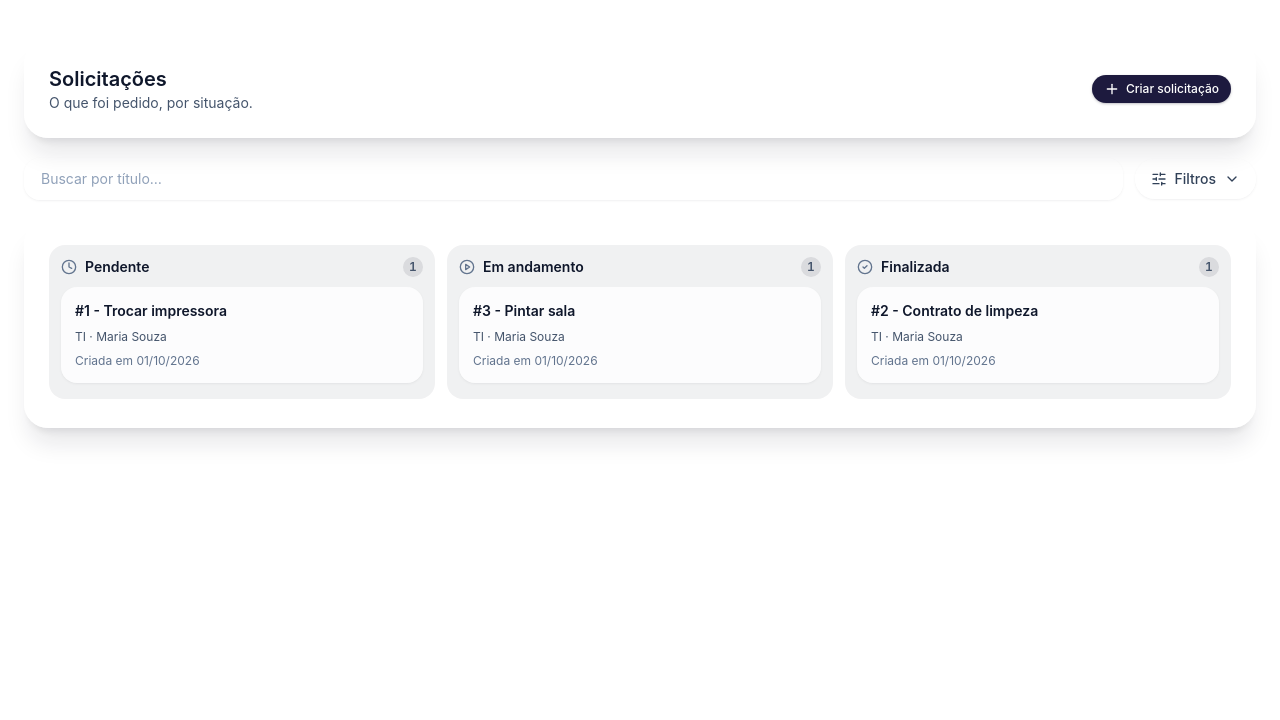
DemandsView › filtros › o botão diz quantos filtros do painel estão em vigor
Click the button "Filtros": {"x": 1195, "y": 179} left=1135, top=159, right=1256, bottom=199
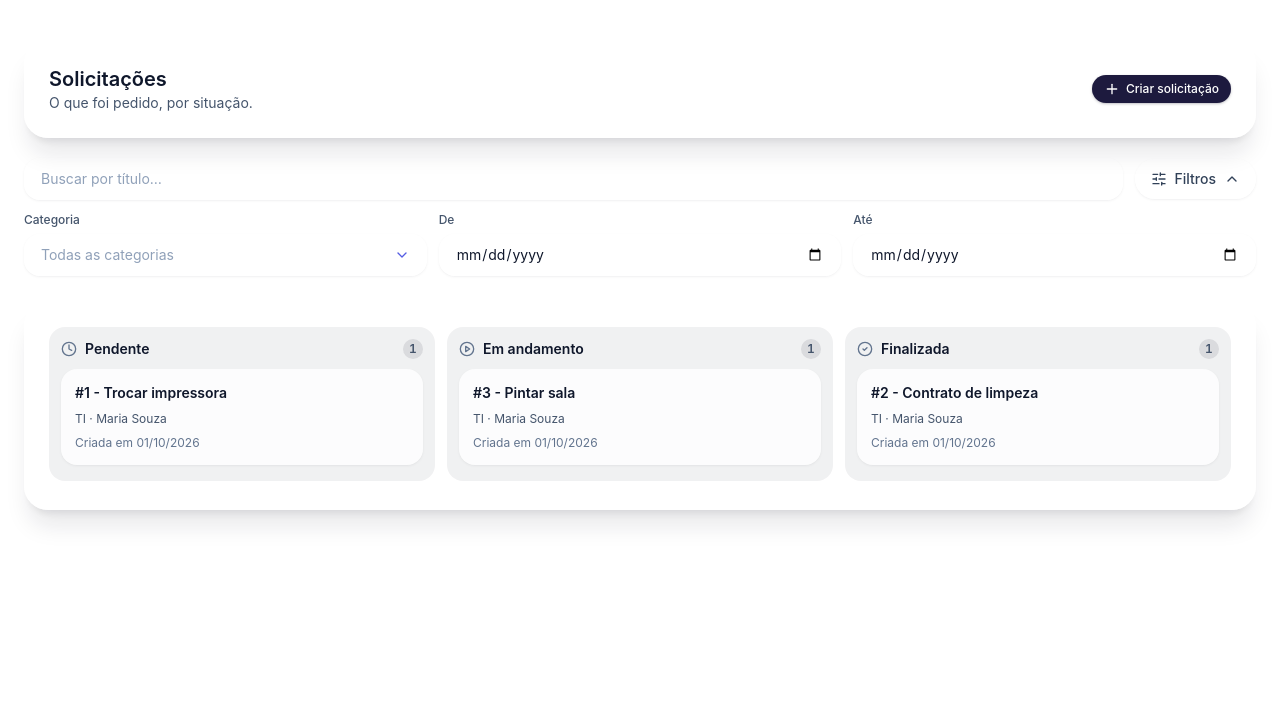
In the search field with placeholder "Buscar por título…": {"x": 573, "y": 179} left=24, top=158, right=1123, bottom=200, type "impressora"
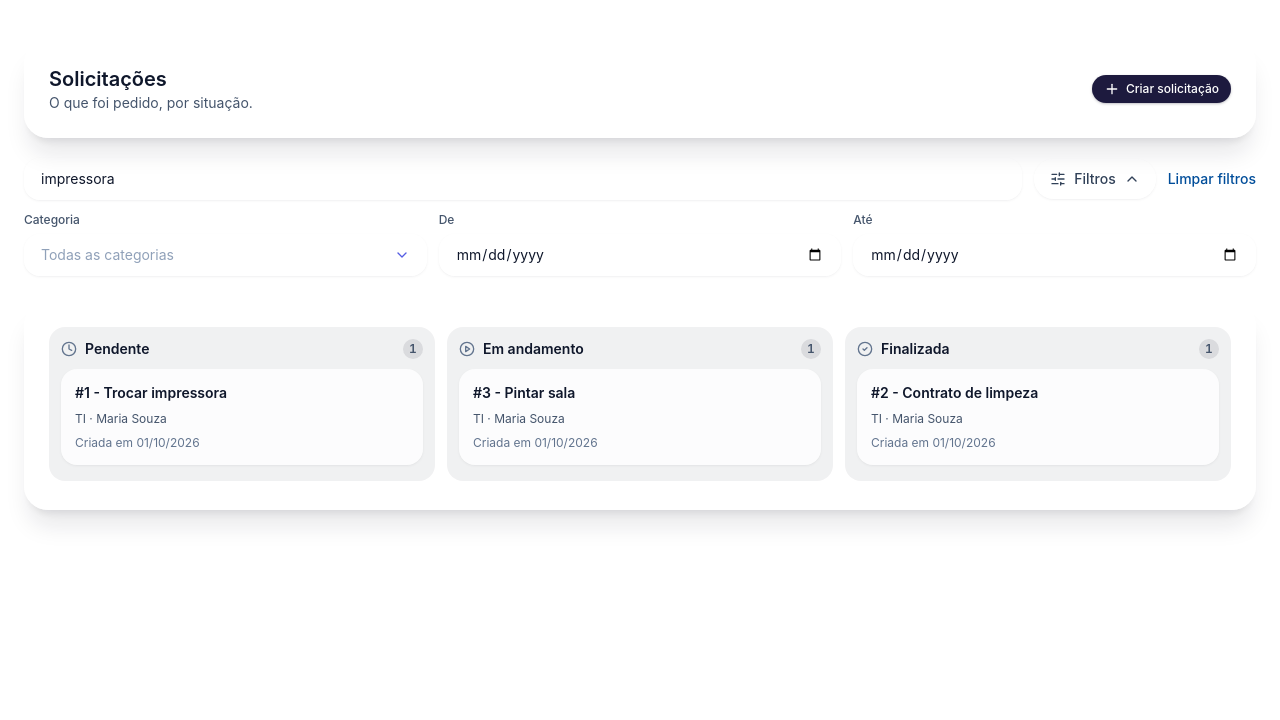
Expected: the button "Filtros" is shown, left=1034, top=159, right=1156, bottom=199
Click the dropdown labelled "Todas as categorias": {"x": 107, "y": 254} left=24, top=234, right=427, bottom=276
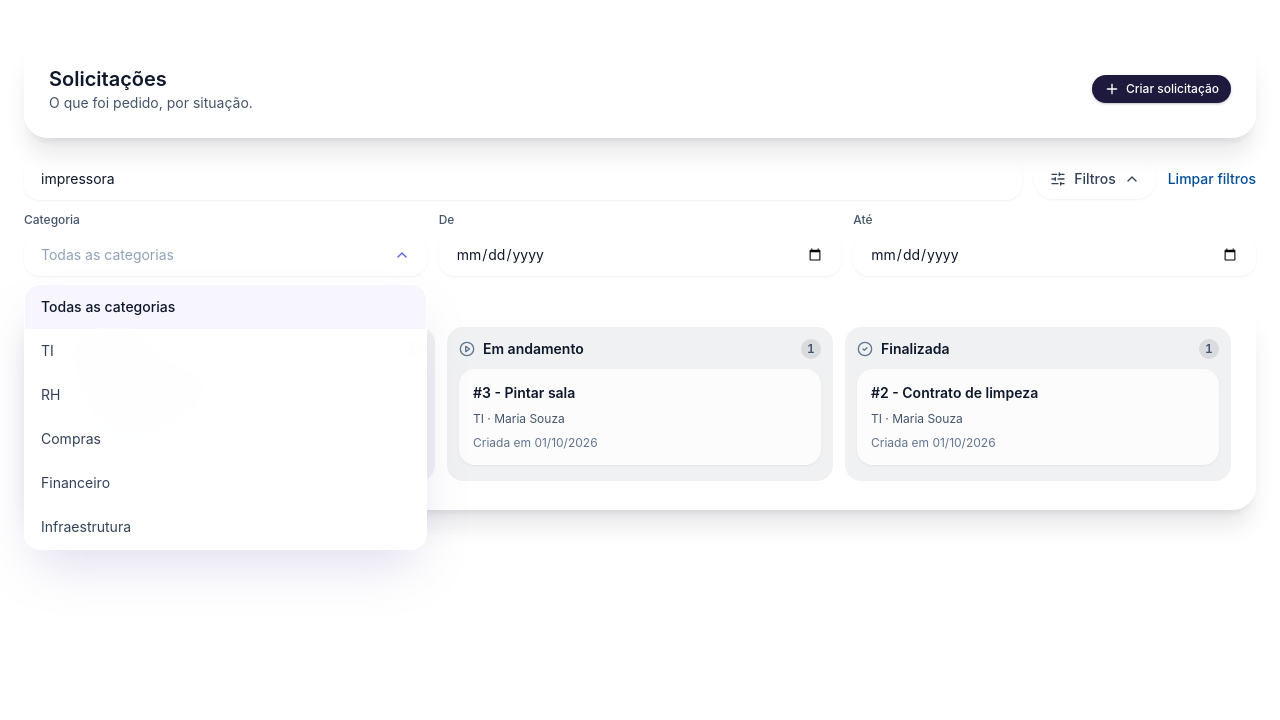
Click the option "RH": {"x": 51, "y": 394} left=41, top=386, right=60, bottom=403
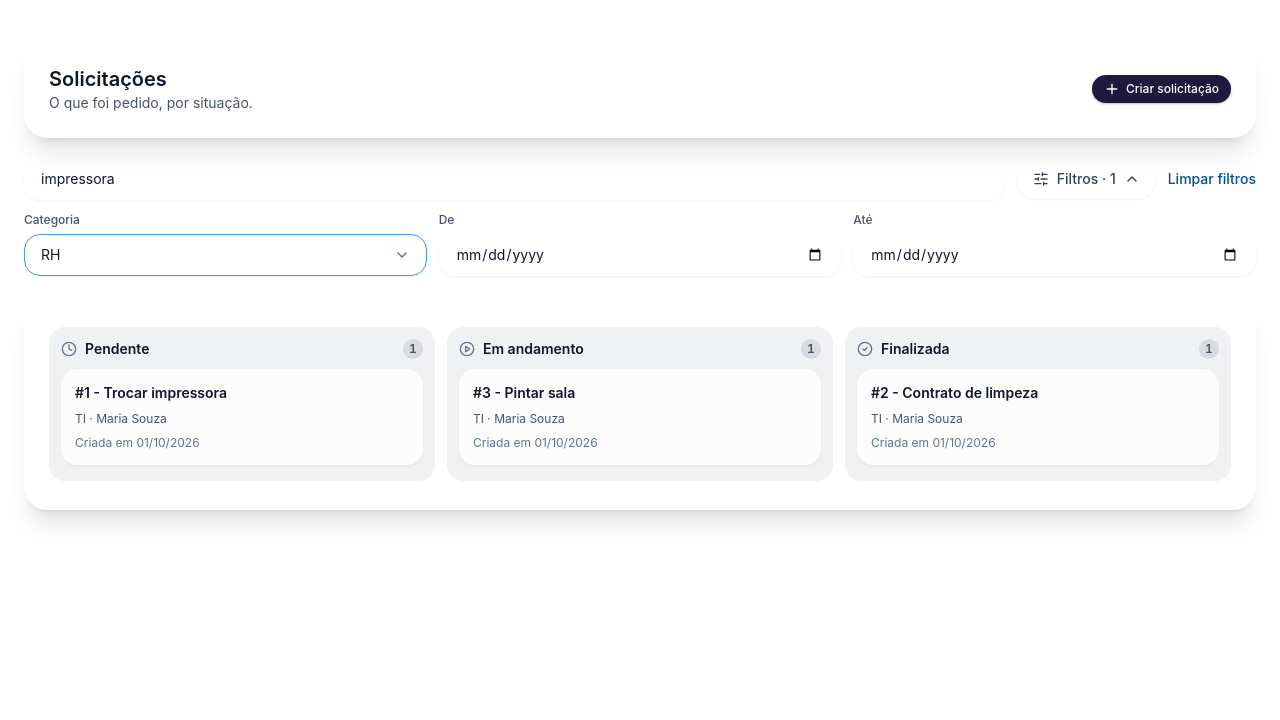
In the date field labelled "De": {"x": 640, "y": 255} left=439, top=234, right=841, bottom=276, type "2026-10-01"
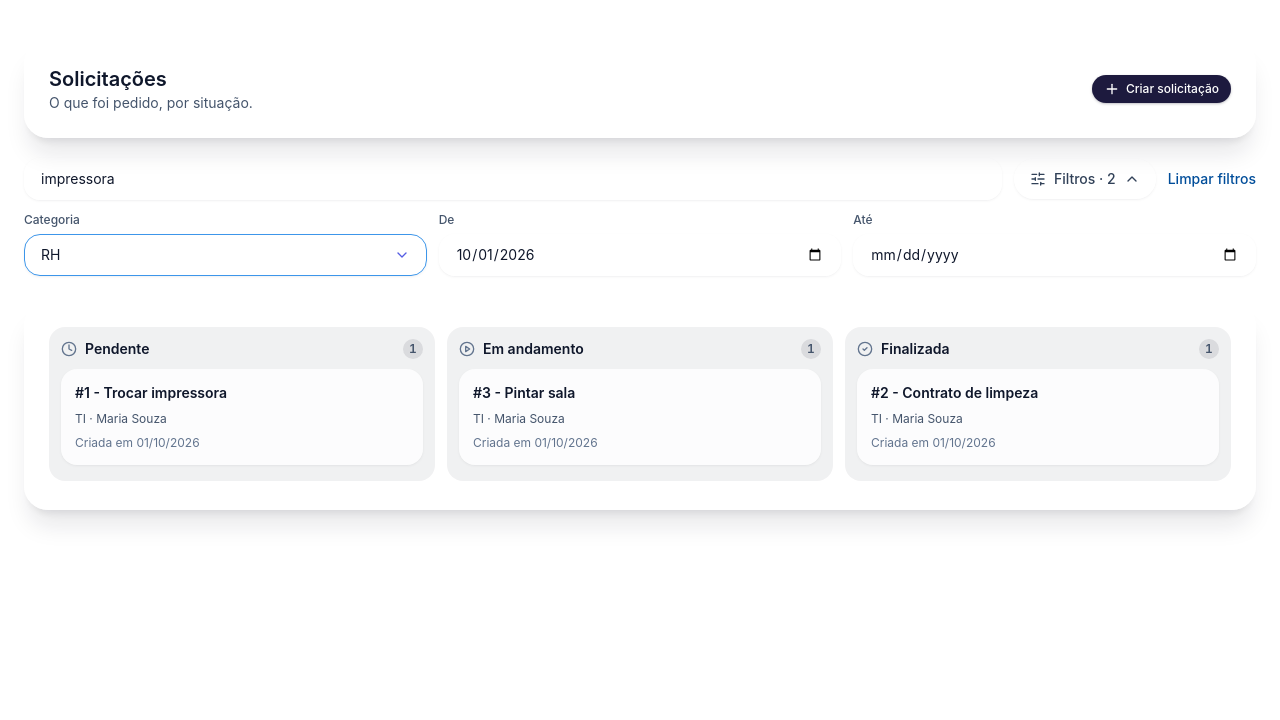
Now the button "Filtros · 2" is shown, box left=1014, top=159, right=1156, bottom=199
